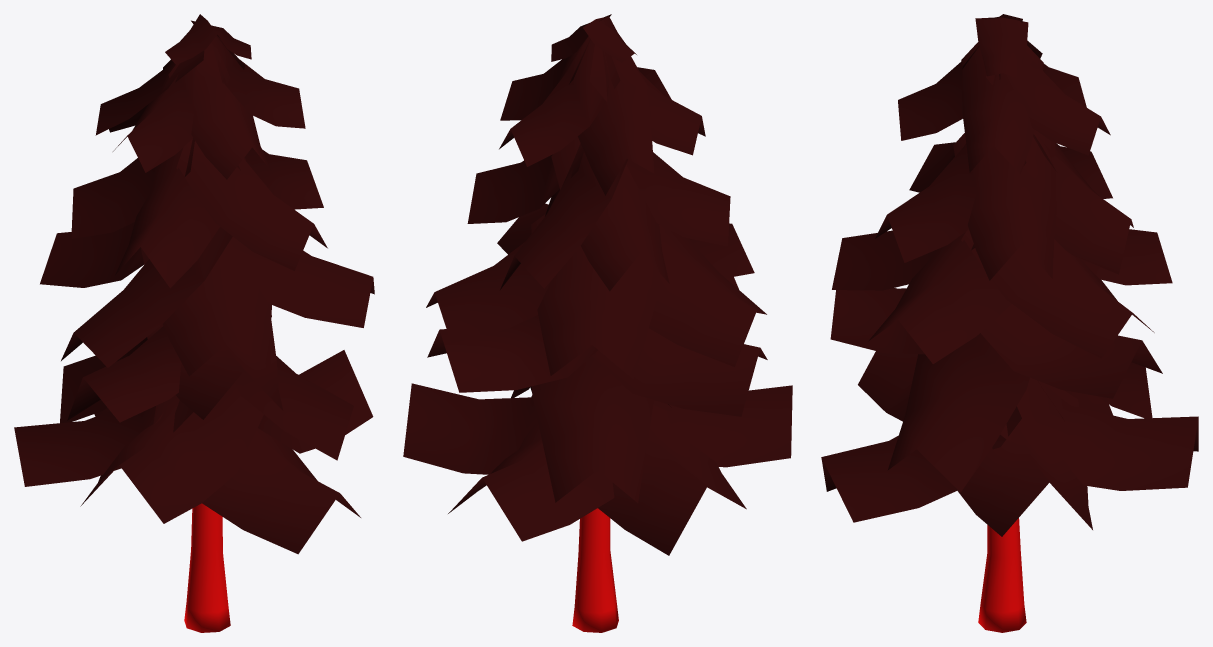
Rendered from Small_Pine_Tree_02.fbx.
3 views of the same model, side by side, from view 1: azimuth 30°, elevation 25°; view 2: azimuth 150°, elevation 25°; view 3: azimuth 270°, elevation 25° (orthographic).
Parts seen in each view (by area): view 1: SM_Tree_Pine_Small_01; view 2: SM_Tree_Pine_Small_01; view 3: SM_Tree_Pine_Small_01.
Boxes of the visible parts, bbox=[...] form: SM_Tree_Pine_Small_01: bbox=[14, 14, 374, 632]; SM_Tree_Pine_Small_01: bbox=[403, 14, 792, 632]; SM_Tree_Pine_Small_01: bbox=[821, 14, 1198, 632].
Bounding box in the file's own units: 201 × 348 × 196.
